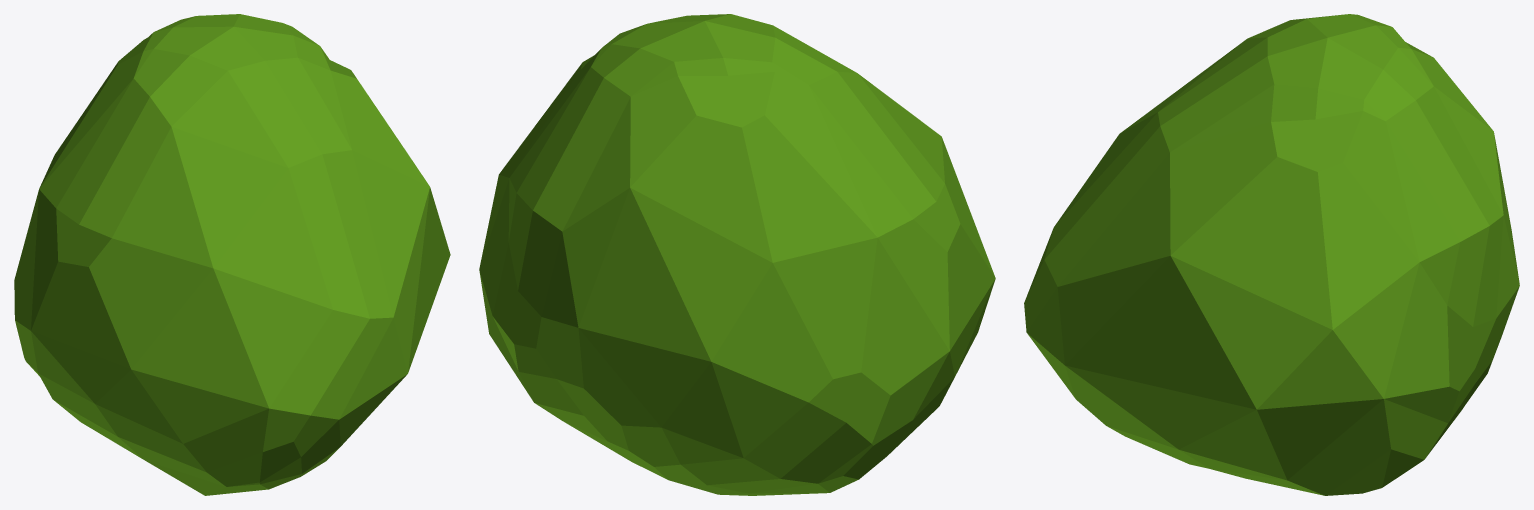
File: bush-2.fbx
The picture shows the model from 3 angles, left to right: view 1: azimuth 30°, elevation 25°; view 2: azimuth 150°, elevation 25°; view 3: azimuth 270°, elevation 25°; orthographic projection. The views are drawn at different scales.
Visible parts, largest first — view 1: Icosphere.029; view 2: Icosphere.029; view 3: Icosphere.029.
Part boxes in pixels (x1,y1,x2,y2): Icosphere.029: [14, 14, 450, 495]; Icosphere.029: [479, 14, 995, 495]; Icosphere.029: [1024, 14, 1519, 495].
Size of the model in its own units: 150 by 150 by 148.
